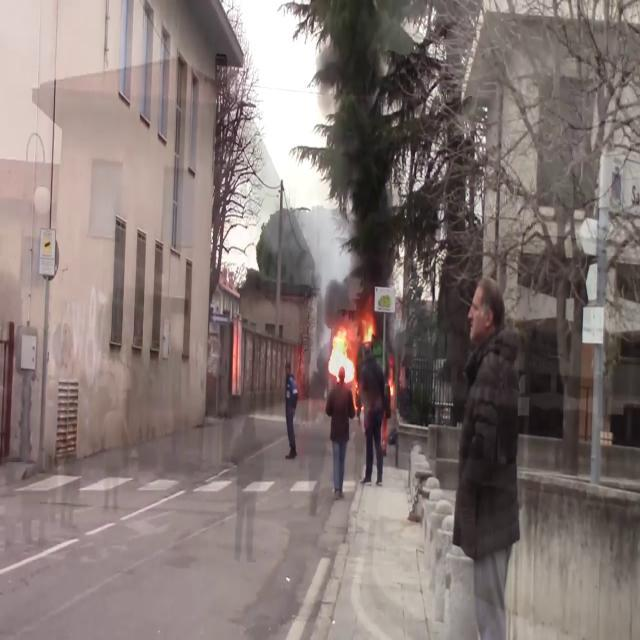Fire: (322, 308, 376, 394)
Smoke: (304, 1, 402, 298)
